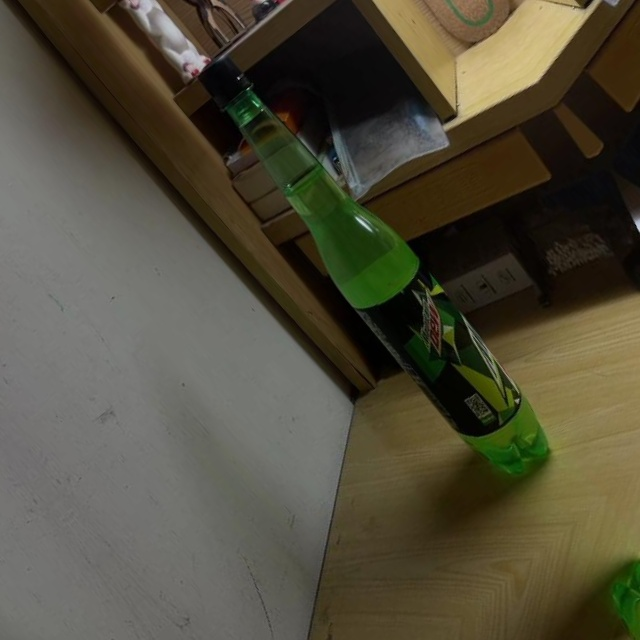Mountain-Dew: (177, 45, 573, 495)
